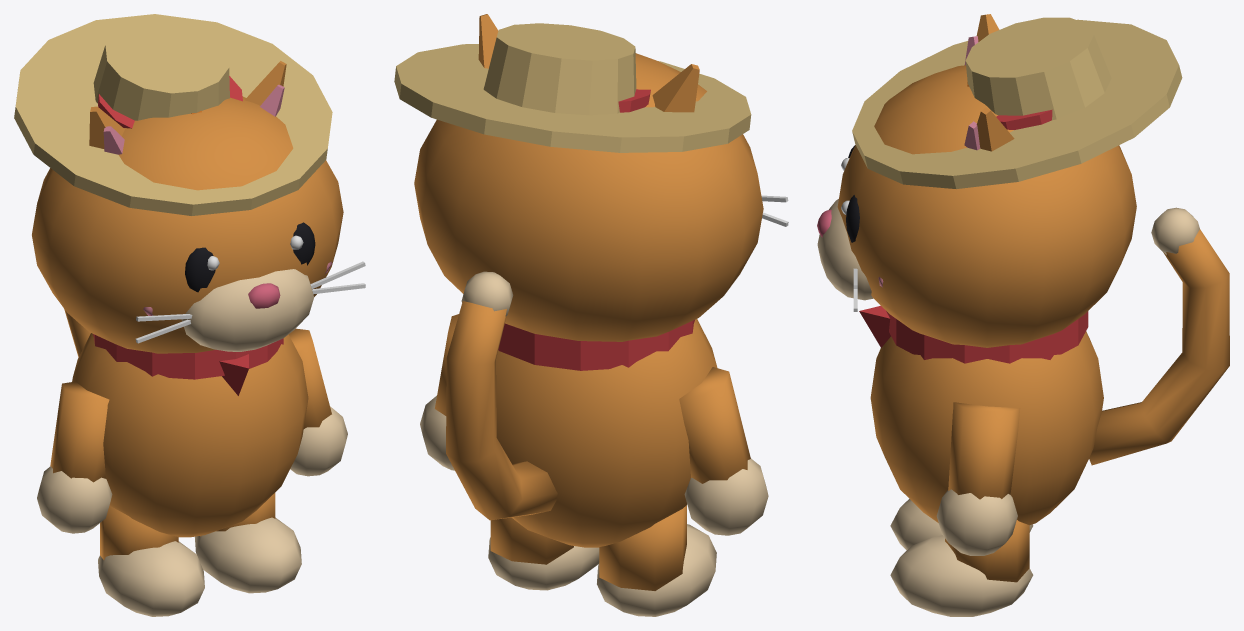
Rendered from cat.glb.
The picture shows the model from 3 angles, left to right: view 1: azimuth 30°, elevation 25°; view 2: azimuth 150°, elevation 25°; view 3: azimuth 270°, elevation 25°; orthographic projection. The views are drawn at different scales.
Visible parts, largest first — view 1: head, hat, body, leg_R, arm_R, leg_L, arm_L, scarf, tail; view 2: head, body, hat, tail, arm_R, leg_R, leg_L, scarf, arm_L; view 3: head, hat, body, tail, arm_L, leg_L, scarf, leg_R.
Boxes of the visible parts, bbox=[...] form: head: bbox=[32, 61, 365, 353]; hat: bbox=[14, 14, 332, 215]; body: bbox=[72, 333, 308, 537]; leg_R: bbox=[98, 505, 204, 616]; arm_R: bbox=[37, 381, 112, 533]; leg_L: bbox=[194, 493, 301, 593]; arm_L: bbox=[288, 328, 347, 476]; scarf: bbox=[93, 334, 283, 395]; tail: bbox=[64, 309, 90, 357]; head: bbox=[414, 14, 788, 341]; body: bbox=[496, 319, 717, 547]; hat: bbox=[394, 23, 751, 152]; tail: bbox=[446, 271, 557, 520]; arm_R: bbox=[679, 367, 768, 535]; leg_R: bbox=[597, 505, 716, 616]; leg_L: bbox=[488, 517, 599, 590]; scarf: bbox=[498, 320, 694, 370]; arm_L: bbox=[420, 314, 458, 470]; head: bbox=[817, 14, 1136, 347]; hat: bbox=[852, 17, 1182, 188]; body: bbox=[870, 331, 1103, 525]; tail: bbox=[1089, 207, 1229, 465]; arm_L: bbox=[936, 402, 1020, 555]; leg_L: bbox=[890, 520, 1033, 616]; scarf: bbox=[859, 305, 1088, 363]; leg_R: bbox=[890, 499, 1033, 550].
Bounding box in the file's own units: 0.7228 × 1.22 × 0.828.
